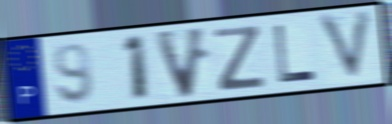1: (121, 32, 154, 102)
9: (51, 42, 96, 106)
L: (272, 22, 318, 85)
V: (315, 7, 376, 85), (151, 24, 210, 102)
Z: (212, 24, 266, 94)
